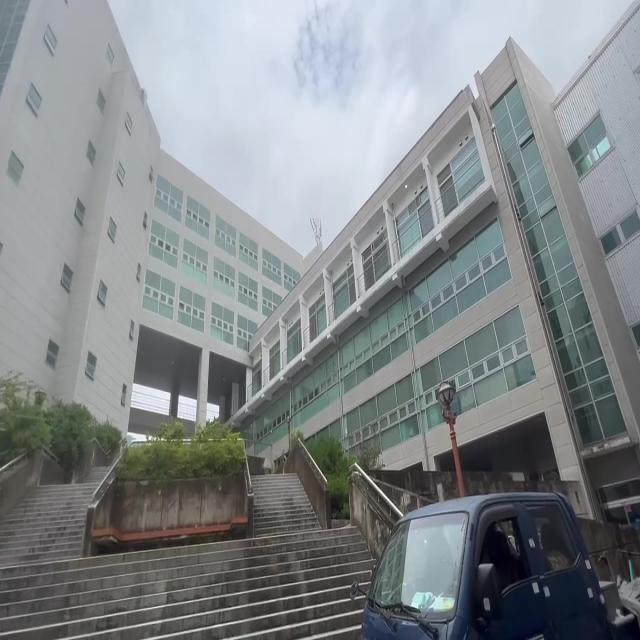building: (25, 70, 629, 450)
